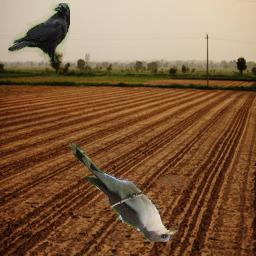Crow: (8, 3, 70, 63)
Cuckoo: (65, 140, 178, 242)
